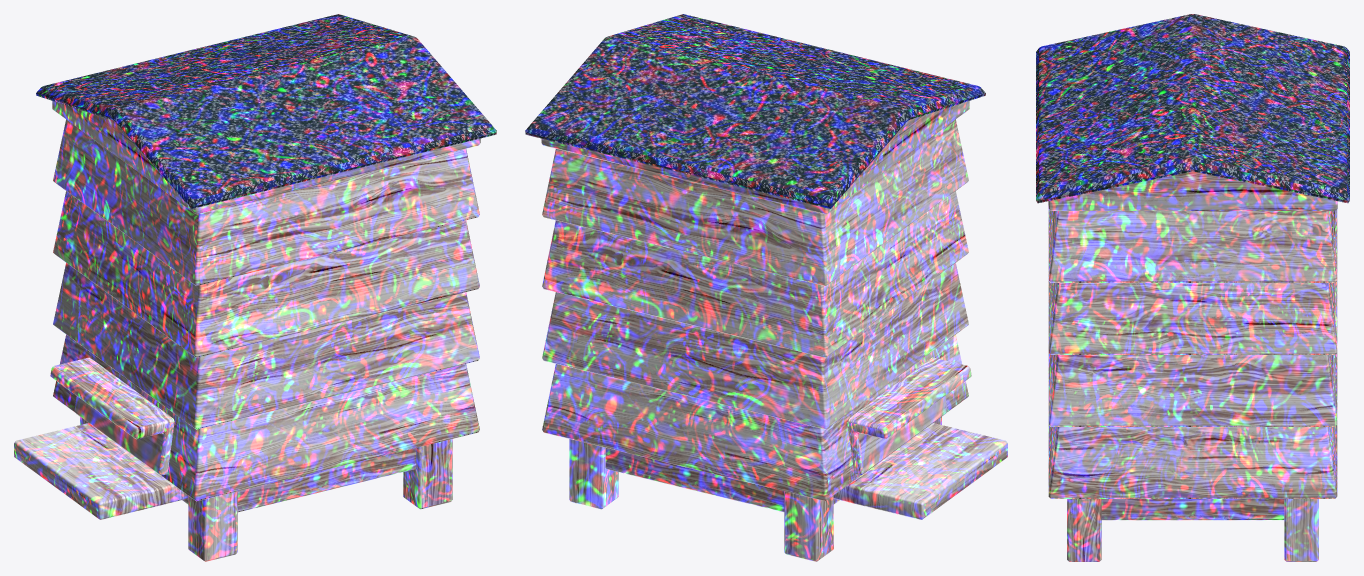
File: beehive_SM.fbx
3 views of the same model, side by side, from view 1: azimuth 30°, elevation 25°; view 2: azimuth 150°, elevation 25°; view 3: azimuth 270°, elevation 25° (orthographic).
Parts seen in each view (by area): view 1: beehive_SM_LOD0; view 2: beehive_SM_LOD0; view 3: beehive_SM_LOD0.
Boxes of the visible parts, bbox=[...] form: beehive_SM_LOD0: bbox=[14, 14, 496, 561]; beehive_SM_LOD0: bbox=[525, 14, 1007, 561]; beehive_SM_LOD0: bbox=[1036, 14, 1349, 561].
Size of the model in its own units: 170 by 126 by 185.
Materials: 2 (2 with a texture image).
